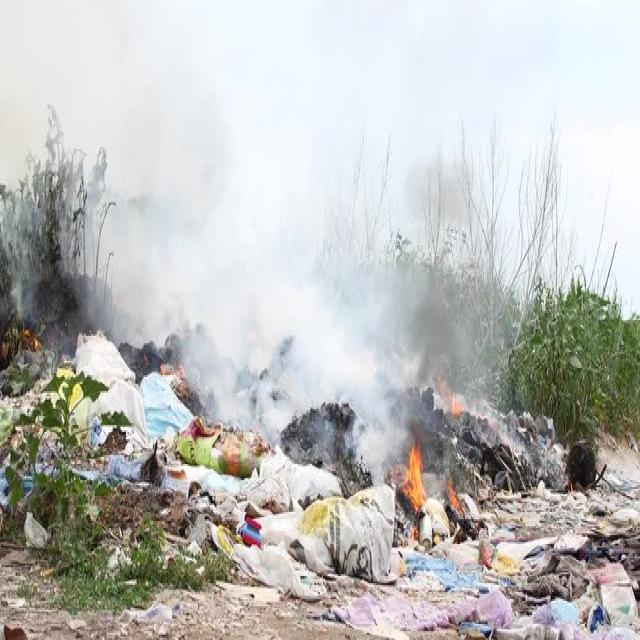fire: (400, 442, 426, 513)
